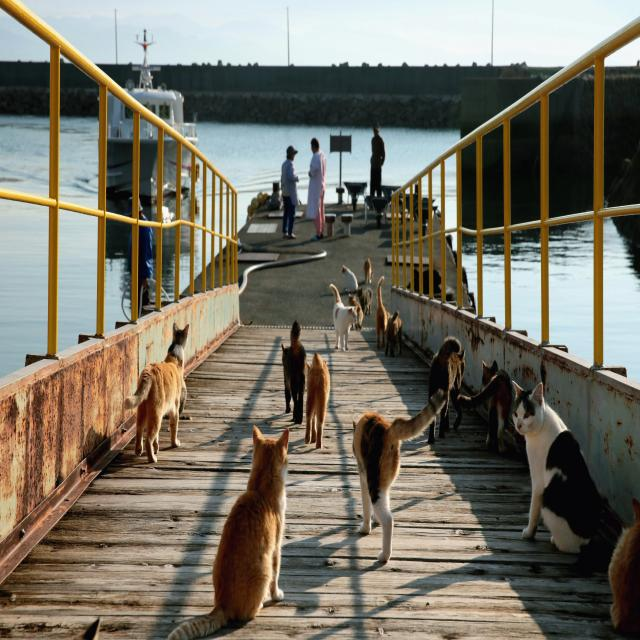cat: (169, 426, 289, 639), (352, 389, 446, 562), (512, 382, 599, 553), (125, 356, 185, 462), (459, 359, 512, 452), (609, 499, 640, 633), (429, 335, 465, 438), (281, 320, 306, 425), (305, 352, 330, 449), (330, 285, 358, 350), (376, 276, 390, 348), (385, 311, 402, 357), (168, 322, 189, 357), (349, 294, 364, 330), (356, 287, 372, 315), (364, 259, 372, 285), (428, 421, 435, 443)
